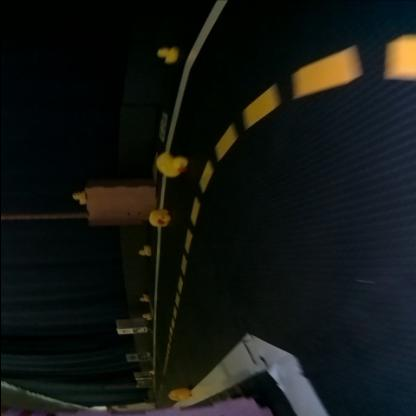Duckie: (156, 155, 184, 177), (148, 209, 166, 228), (167, 388, 190, 402), (156, 48, 175, 64), (71, 193, 83, 205), (137, 247, 149, 257), (141, 314, 149, 320), (138, 297, 146, 302)
Intersection sign: (118, 329, 126, 335)
QR code: (133, 328, 145, 334), (138, 355, 146, 361)
